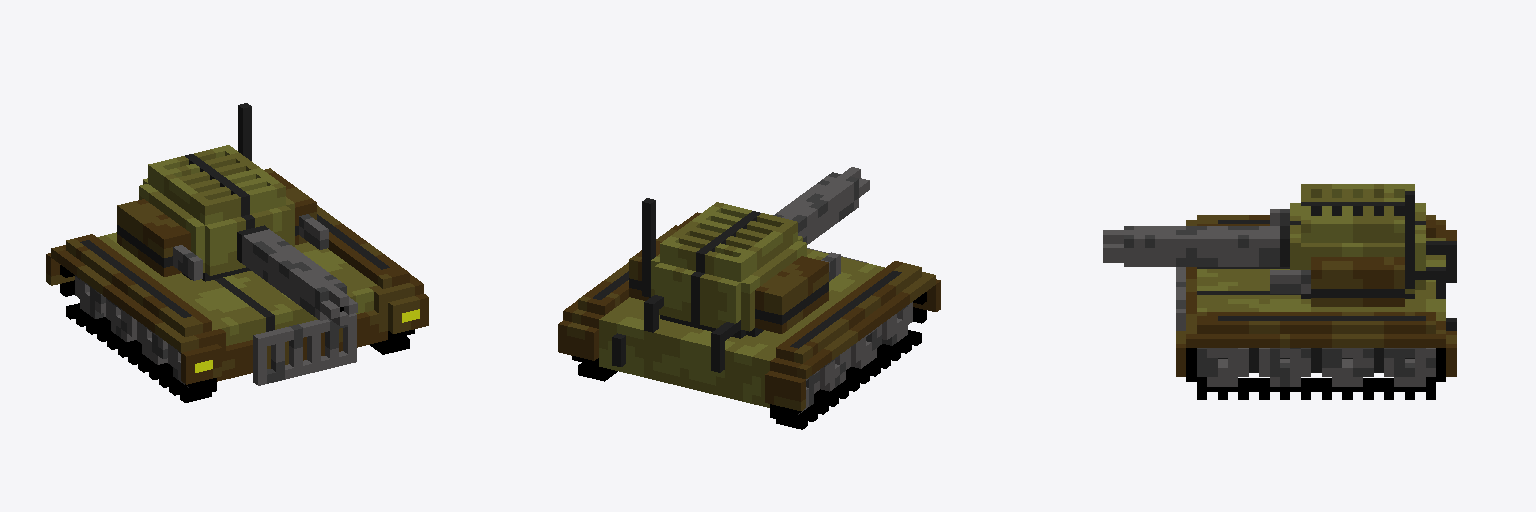
3 views of the same model, side by side, from view 1: azimuth 30°, elevation 25°; view 2: azimuth 150°, elevation 25°; view 3: azimuth 270°, elevation 25° (orthographic).
Visible parts, largest first — view 1: object 1; view 2: object 1; view 3: object 1.
Part boxes in pixels (left/top/right/bottom): object 1: left=46, top=103, right=428, bottom=402; object 1: left=558, top=167, right=940, bottom=429; object 1: left=1103, top=184, right=1456, bottom=399.
Size of the model in its own units: 2.7 by 1.9 by 3.4.
Materials: 1 (1 with a texture image).